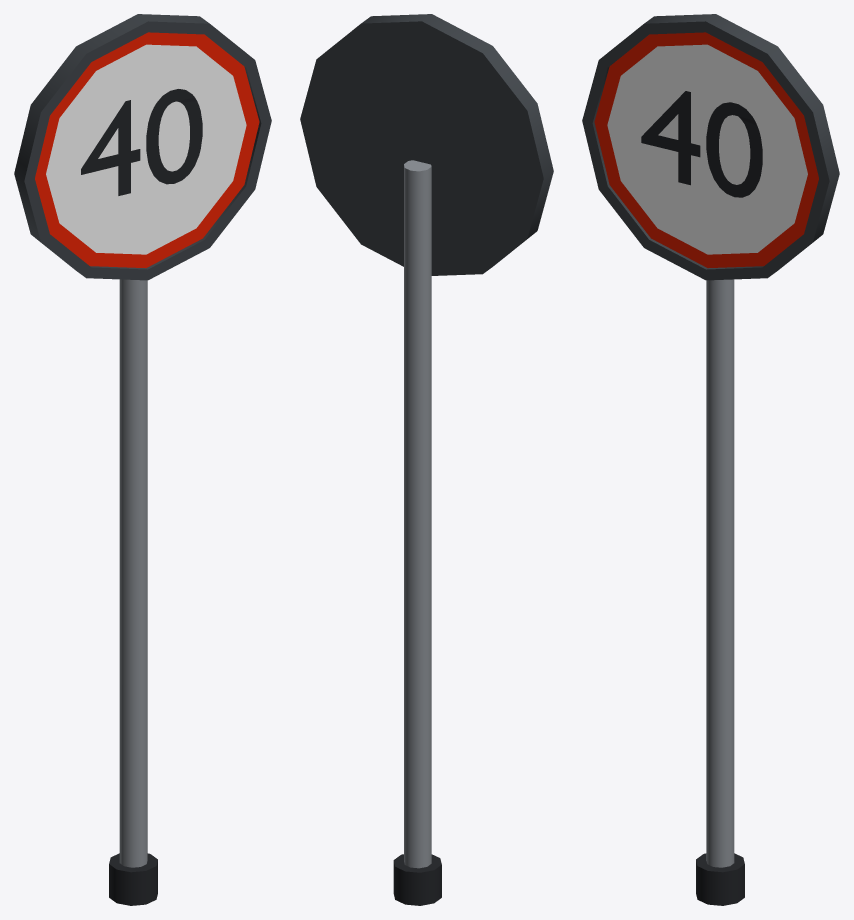
The model's file is TrafficSign_2.fbx.
The picture shows the model from 3 angles, left to right: view 1: azimuth 30°, elevation 25°; view 2: azimuth 150°, elevation 25°; view 3: azimuth 330°, elevation 25°; orthographic projection.
Parts seen in each view (by area): view 1: TrafficSign_2; view 2: TrafficSign_2; view 3: TrafficSign_2.
Boxes of the visible parts, x1=… form: TrafficSign_2: x1=14, y1=14, x2=271, y2=905; TrafficSign_2: x1=300, y1=14, x2=553, y2=905; TrafficSign_2: x1=582, y1=14, x2=839, y2=905.
Bounding box in the file's own units: 62.15 × 212 × 11.77.
